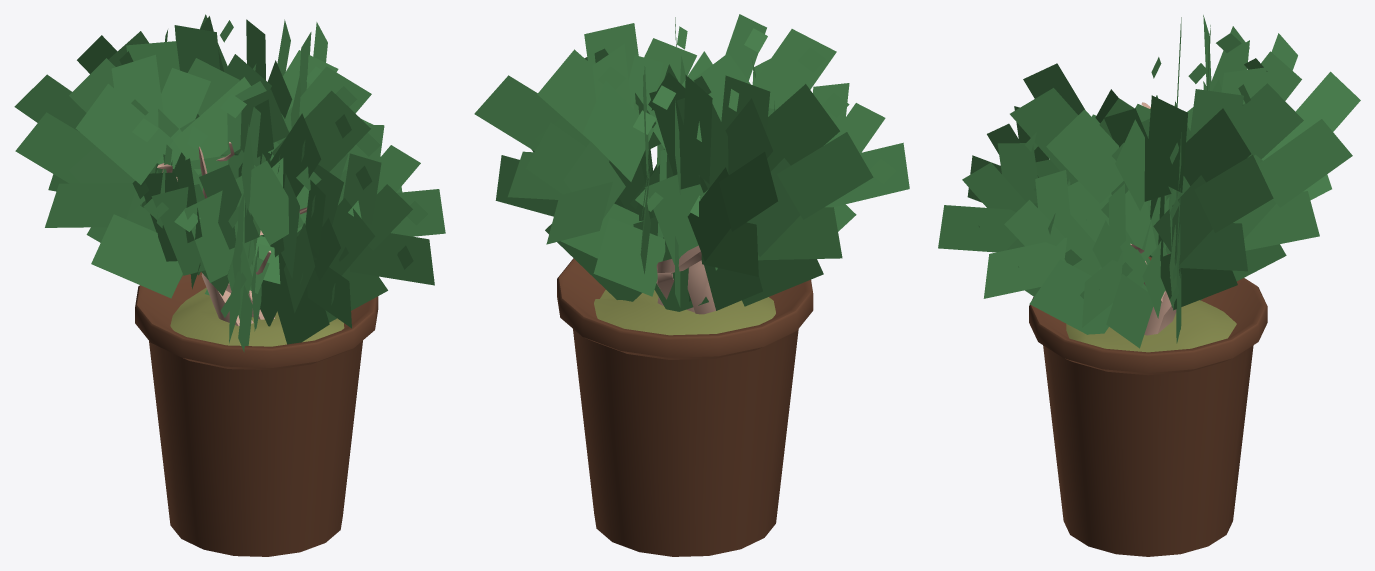
The picture shows the model from 3 angles, left to right: view 1: azimuth 30°, elevation 25°; view 2: azimuth 150°, elevation 25°; view 3: azimuth 270°, elevation 25°; orthographic projection. The views are drawn at different scales.
Visible parts, largest first — view 1: f101; view 2: f101; view 3: f101.
Part boxes in pixels (<box>): f101: <box>14,14,445,556</box>; f101: <box>474,14,909,556</box>; f101: <box>938,15,1360,556</box>.
Bounding box in the file's own units: 52.7 × 53.17 × 62.13.
